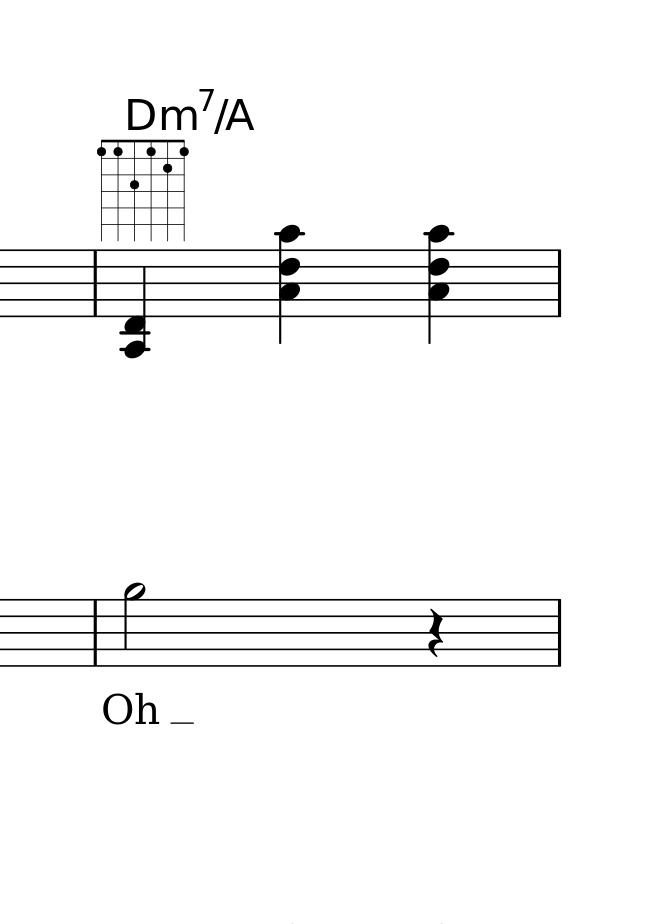2_9: (122, 581, 150, 671)
4_-4_-1: (118, 248, 153, 359)
4_th: (272, 221, 303, 343), (421, 226, 453, 342)
Fretboard: (96, 137, 194, 243)
Rests4: (426, 603, 443, 666)
Single_barline: (549, 599, 567, 668), (549, 250, 567, 318), (87, 599, 103, 666), (87, 250, 102, 318)
